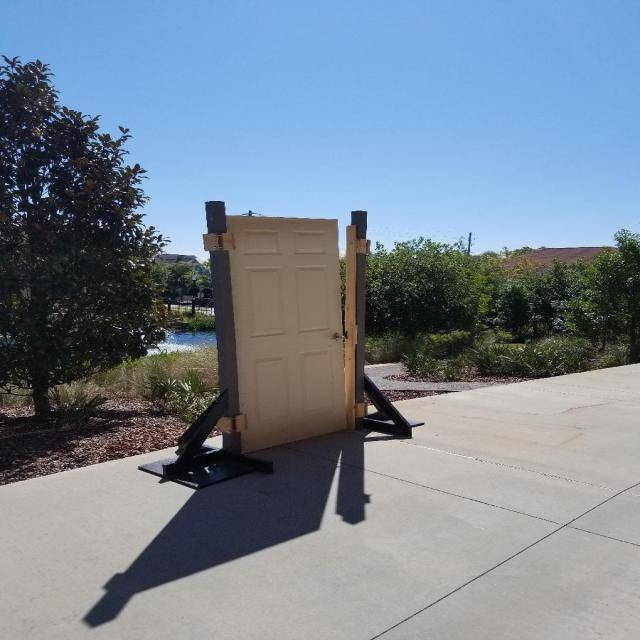door: (223, 213, 351, 458), (324, 329, 351, 346)
